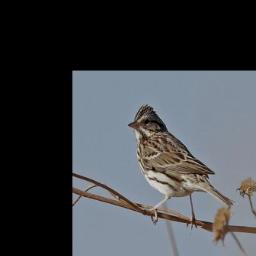Sparrow: (127, 103, 235, 232)
